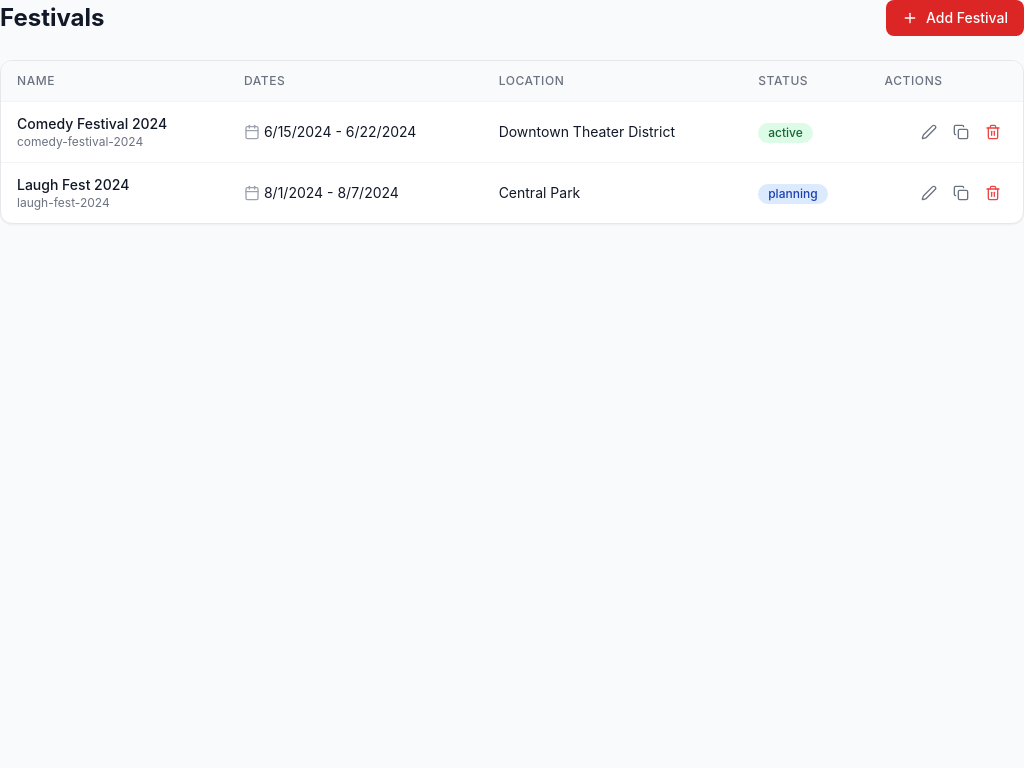
Festivals › delete festival › opens delete confirmation when clicking Delete
Expected: the text "Comedy Festival 2024" is shown, [17,115,167,132]
Click the button titled "Delete" in the row of "Comedy Festival 2024".
click(993, 132)  # box [979,118,1007,146]
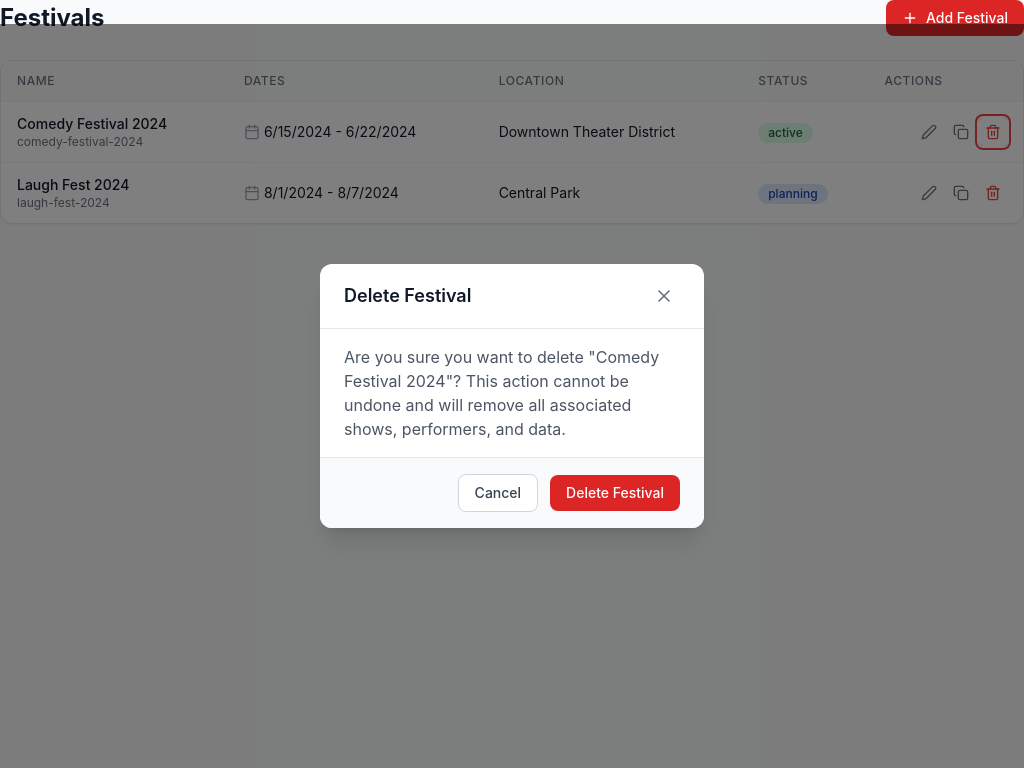
Now the text "Are you sure you want to delete \"Comedy Festival 2024\"" is shown, box [344,347,659,439]
